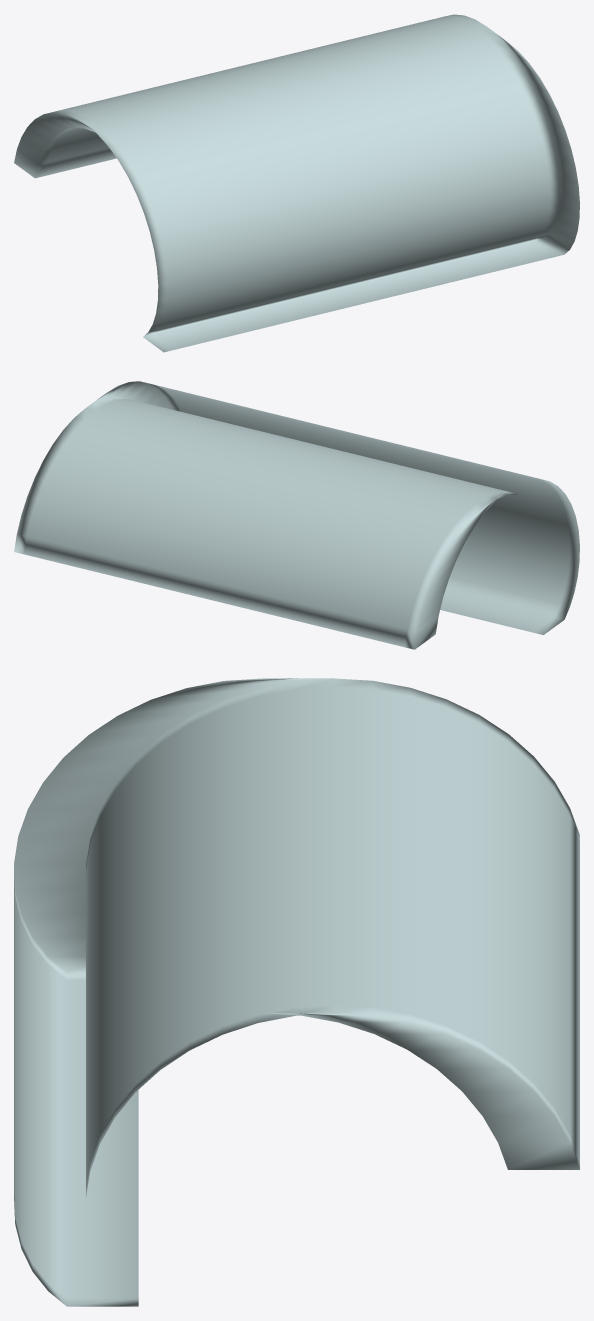
3 renders of one model, top to bottom at view 1: azimuth 30°, elevation 25°; view 2: azimuth 150°, elevation 25°; view 3: azimuth 270°, elevation 25°, orthographic. The views are drawn at different scales.
Visible parts, largest first — view 1: rolling-crest; view 2: rolling-crest; view 3: rolling-crest.
Boxes of the visible parts, left/top/right/bottom form: rolling-crest: left=14, top=14, right=579, bottom=352; rolling-crest: left=14, top=381, right=579, bottom=649; rolling-crest: left=14, top=678, right=579, bottom=1306.
Bounding box in the file's own units: 2.2 × 0.8984 × 1.57.
